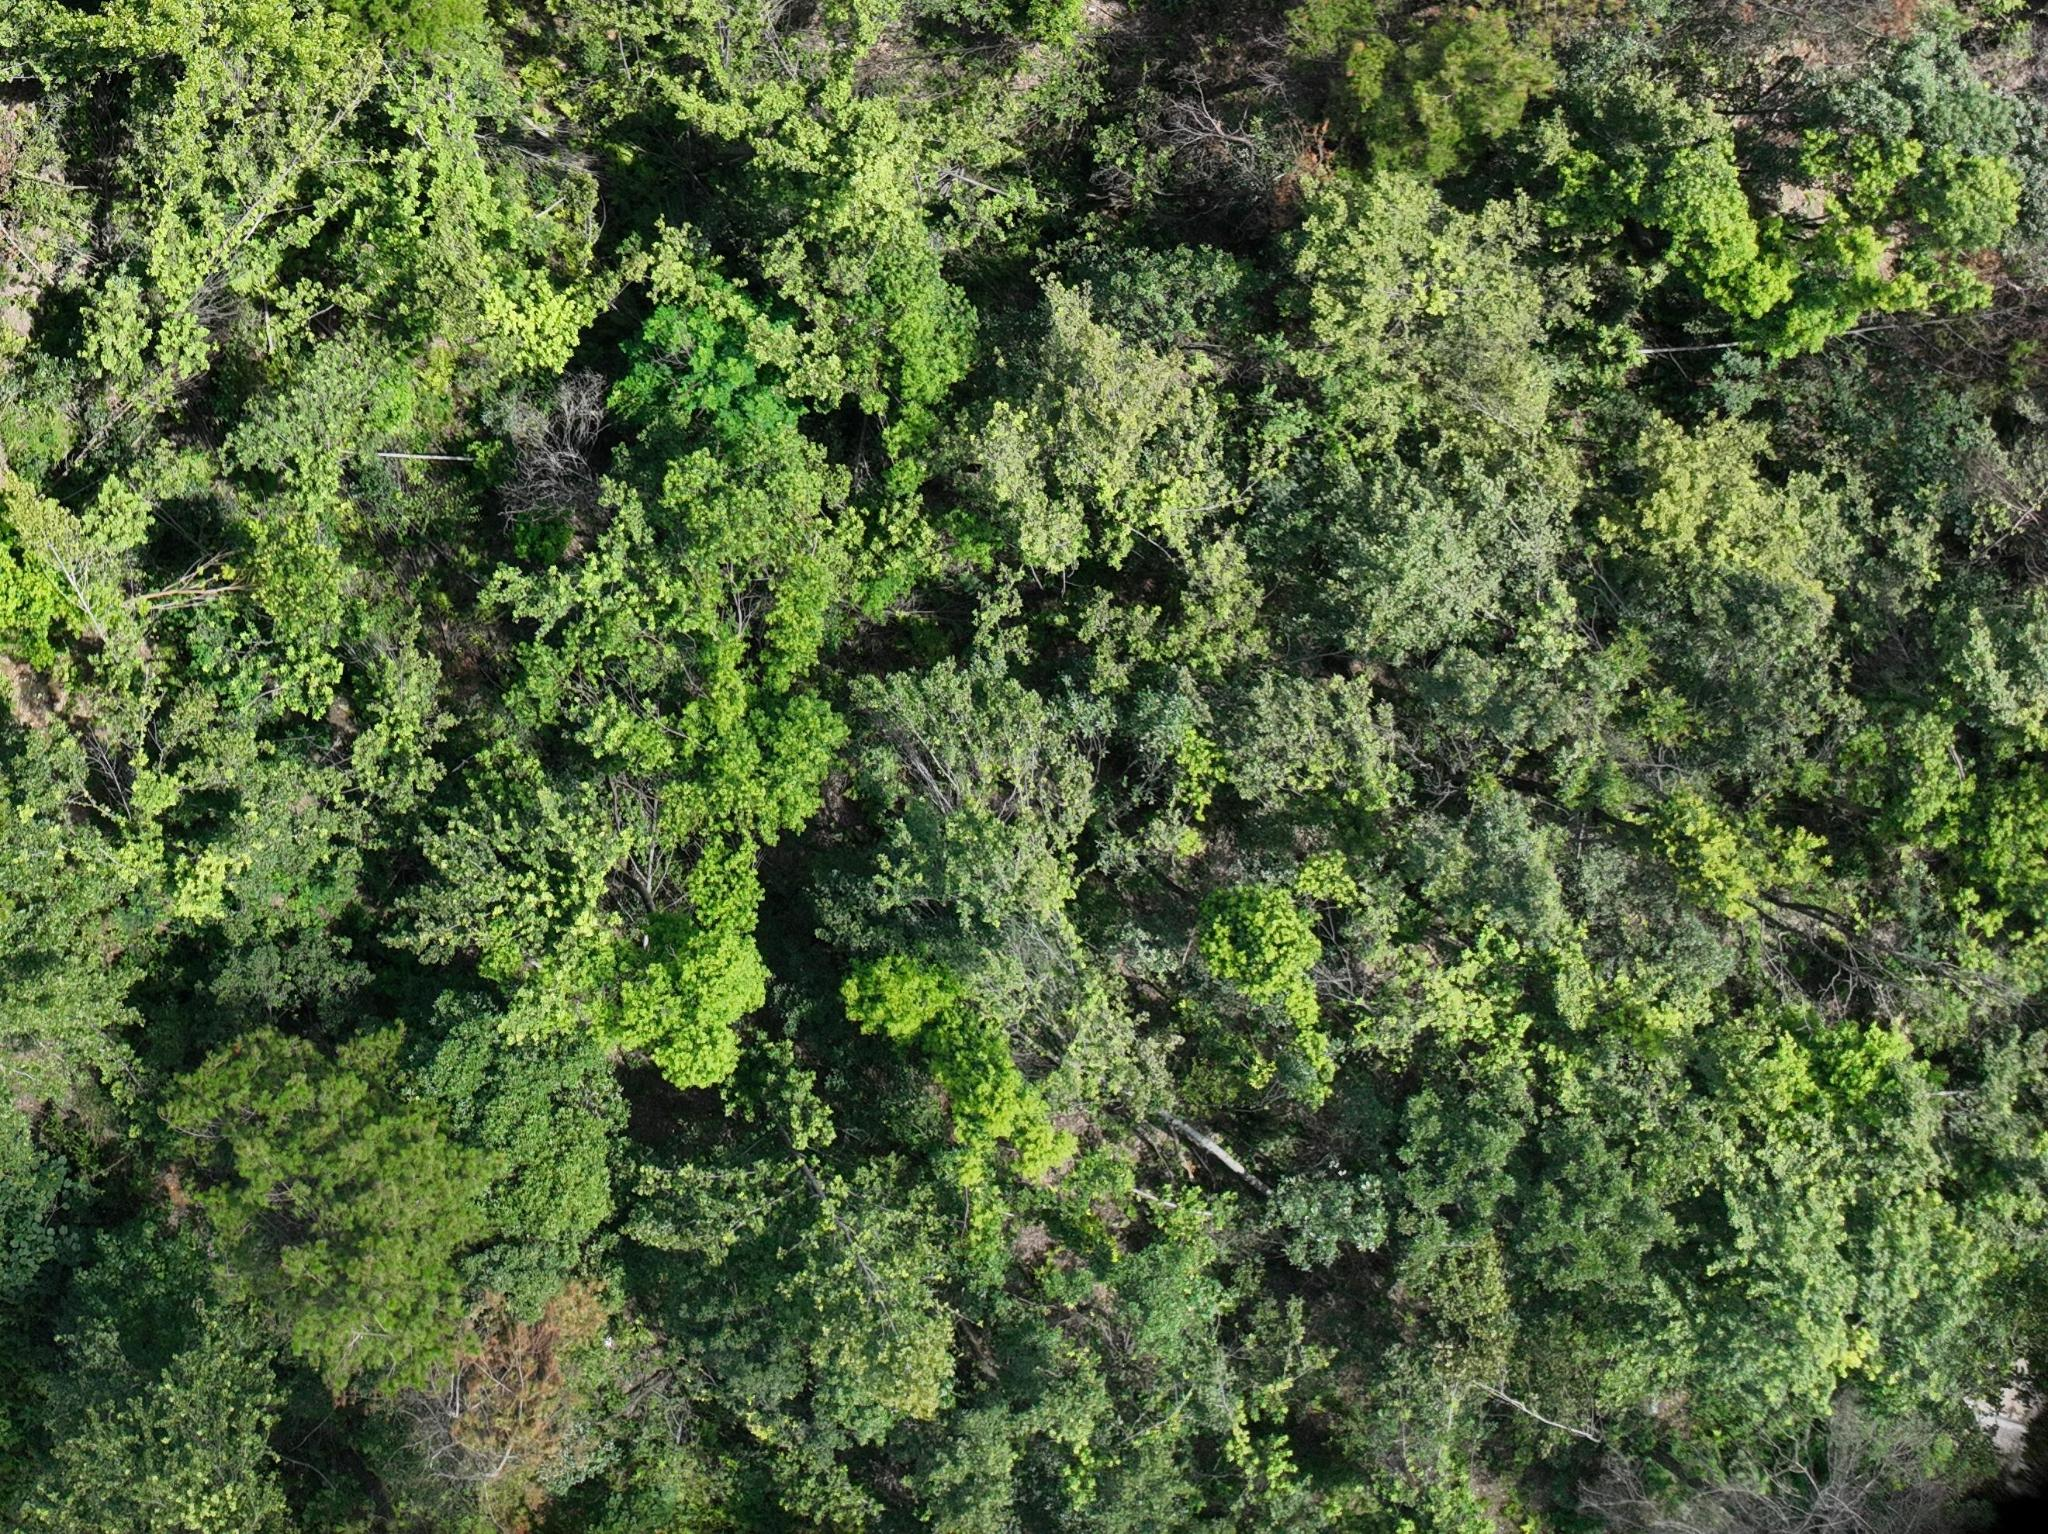dead: (491, 359, 616, 533)
heavy: (421, 1271, 625, 1502)
